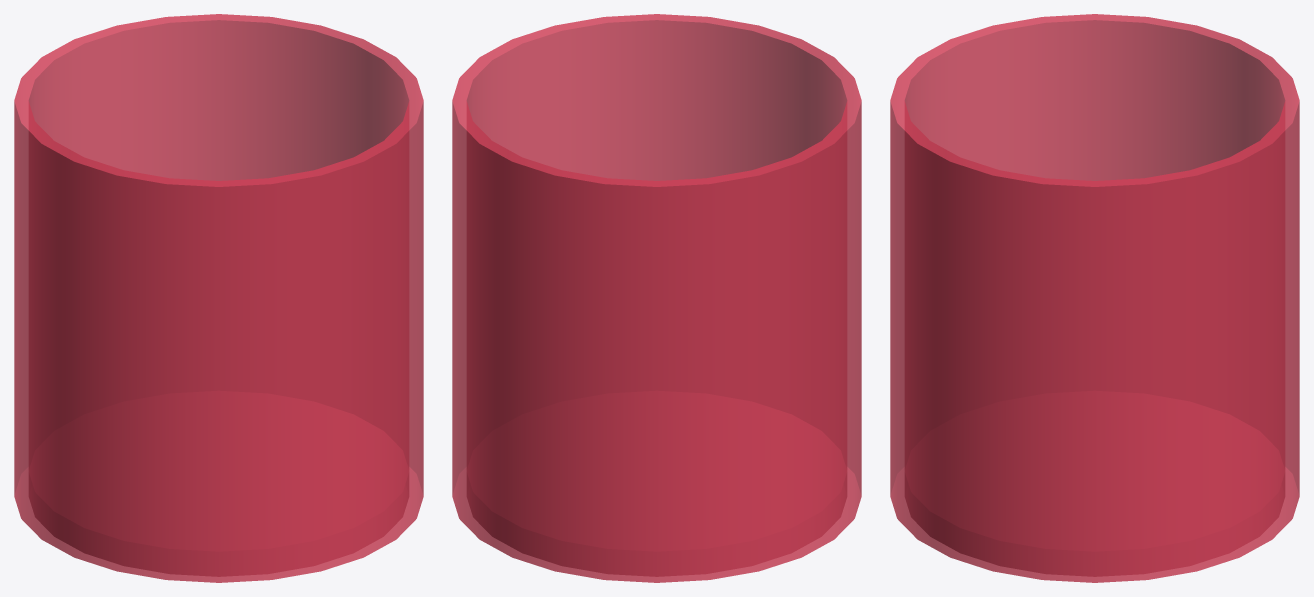
Rendered from pink.dae.
3 renders of one model, left to right at view 1: azimuth 30°, elevation 25°; view 2: azimuth 150°, elevation 25°; view 3: azimuth 270°, elevation 25°, orthographic.
Parts seen in each view (by area): view 1: SketchUp (×3); view 2: SketchUp (×3); view 3: SketchUp (×3).
Part boxes in pixels (x1,y1,x2,y2): SketchUp (×3): [14, 14, 423, 582]; SketchUp (×3): [452, 14, 861, 582]; SketchUp (×3): [890, 14, 1299, 582].
Size of the model in its own units: 2.95 by 2.95 by 3.15.
1 material, 1 textured.
